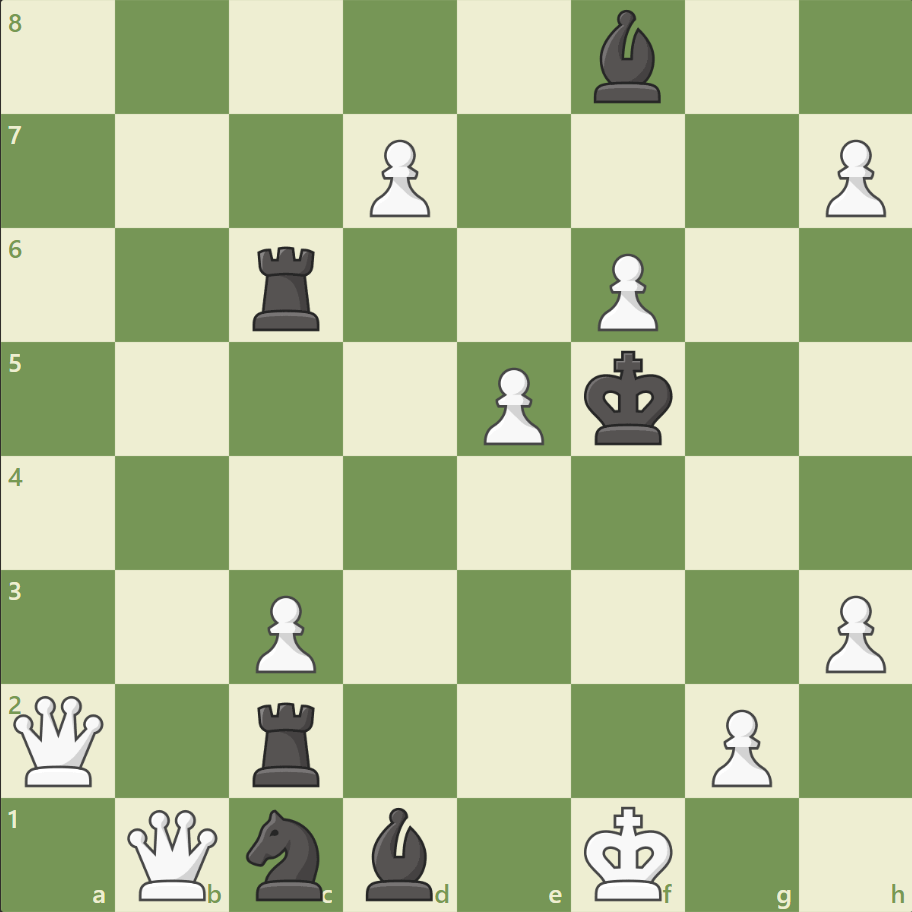K: (579, 798, 679, 906)
P: (474, 359, 549, 450), (247, 586, 322, 677), (701, 700, 776, 791), (361, 132, 435, 223), (815, 132, 889, 223), (588, 246, 662, 337), (815, 586, 889, 677)
Q: (10, 690, 109, 789), (124, 804, 223, 903)
b: (585, 6, 669, 109), (358, 801, 442, 904)
k: (579, 344, 679, 452)
n: (238, 802, 335, 904)
r: (246, 239, 329, 336), (246, 693, 329, 790)
